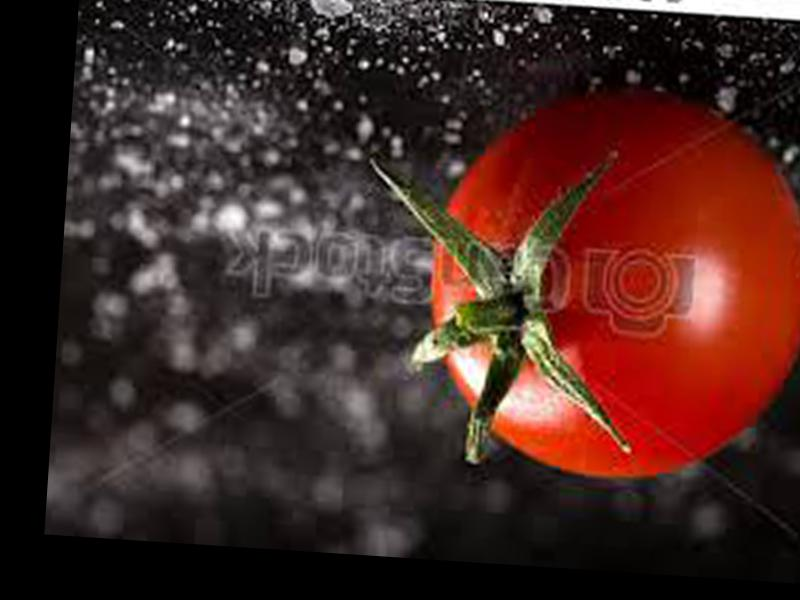Tomato: (419, 82, 800, 490)
